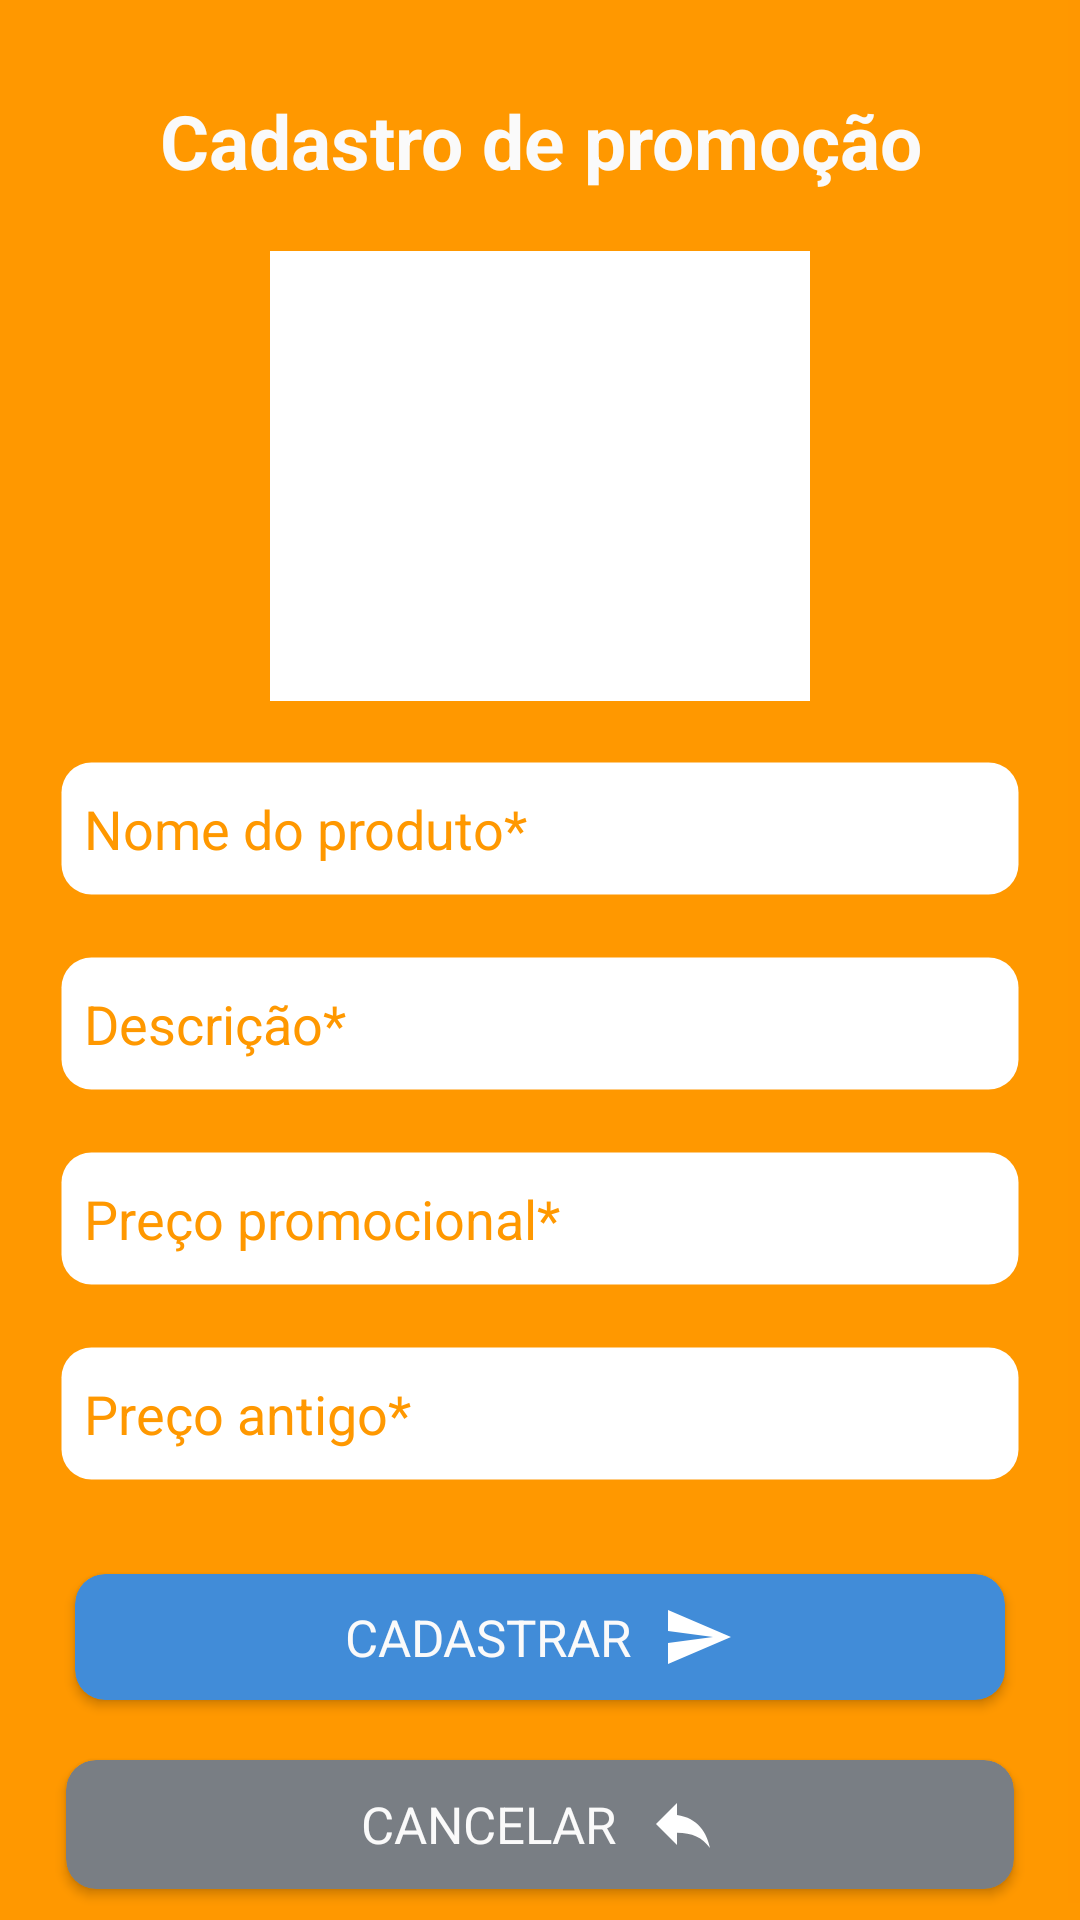

Named icons in this screenshot (1080x1920) and their bounding boxes, bbox=[x1, y1, x2, y2]:
enviar: bbox=[668, 1610, 731, 1664]
voltar: bbox=[656, 1803, 710, 1848]
